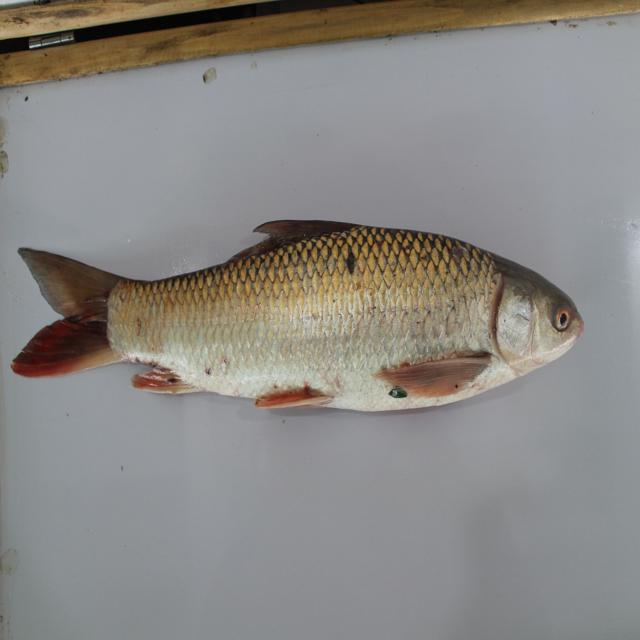Mori: (15, 223, 592, 448)
